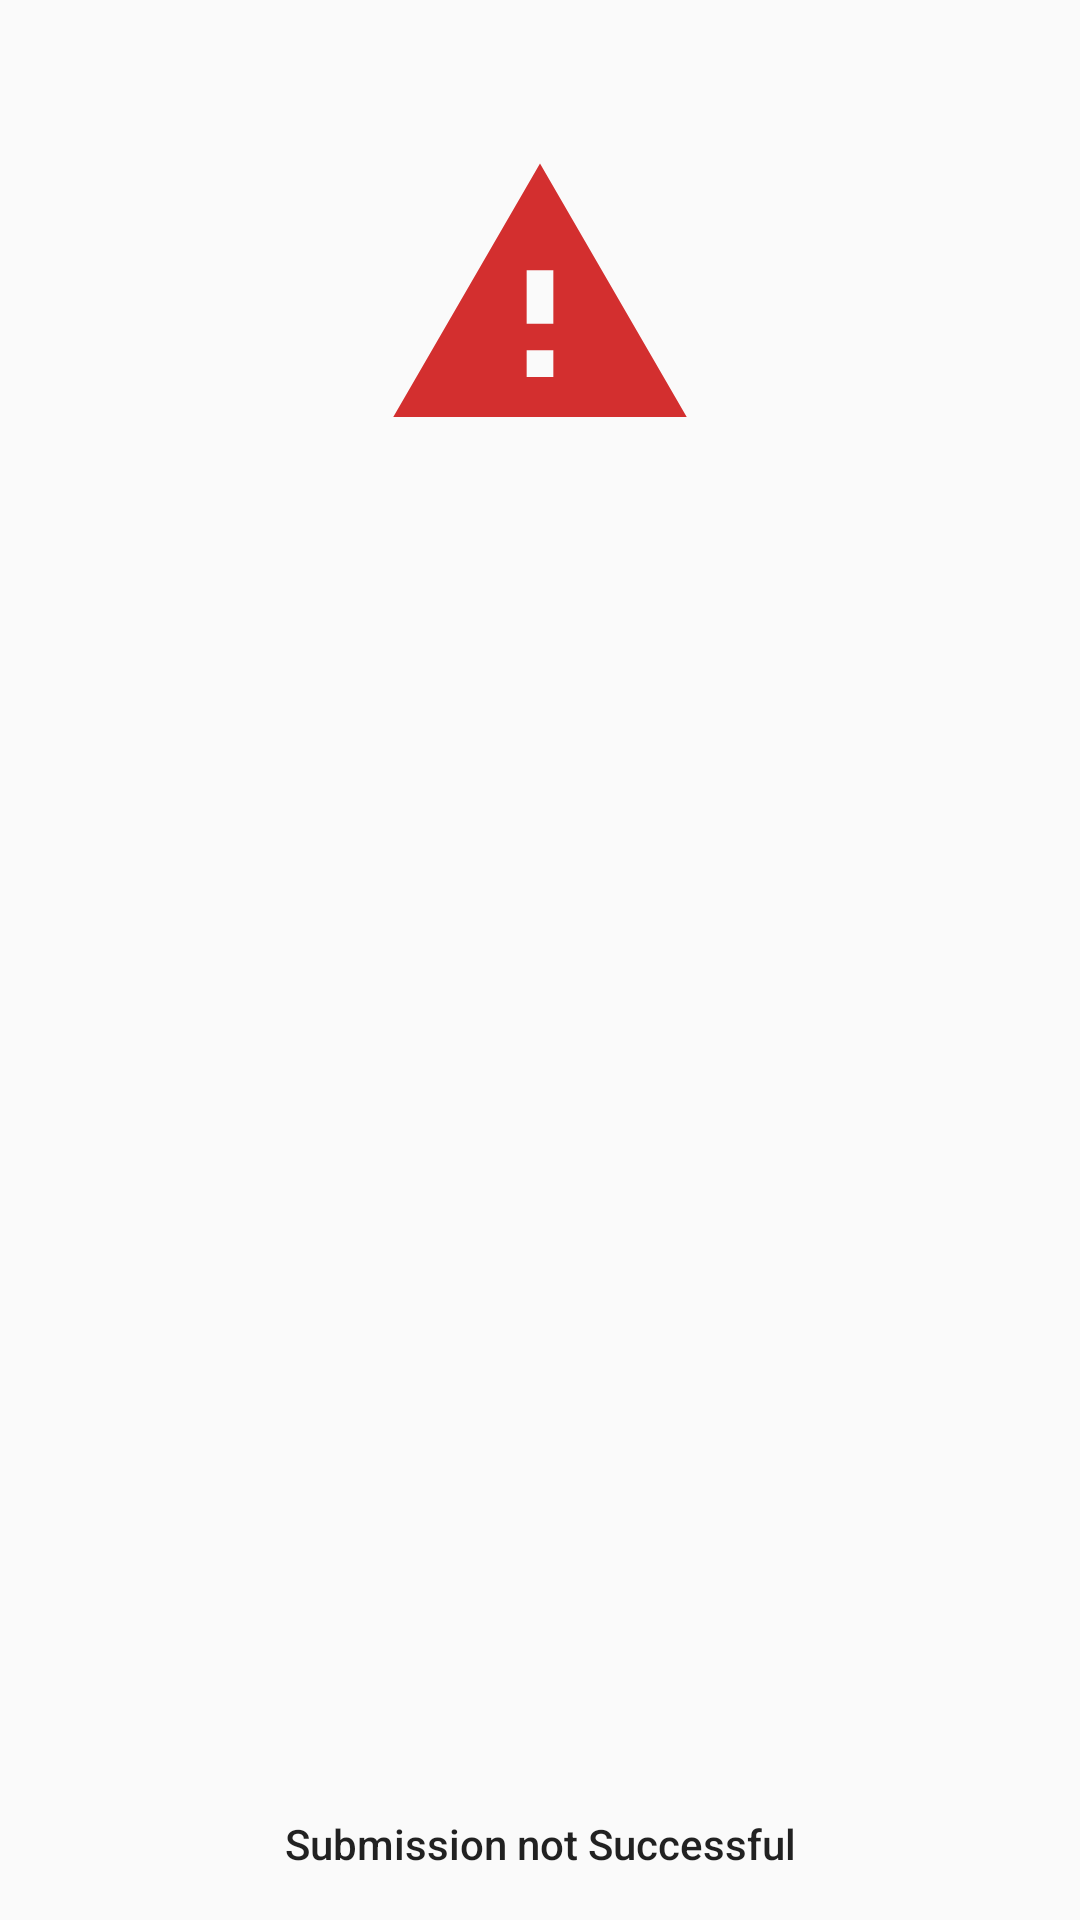

Locate icon controls on the screen. Image size 1080w x 1920h, boxes as (x1, y1, x2, y2).
warning: (393, 164, 687, 417)
